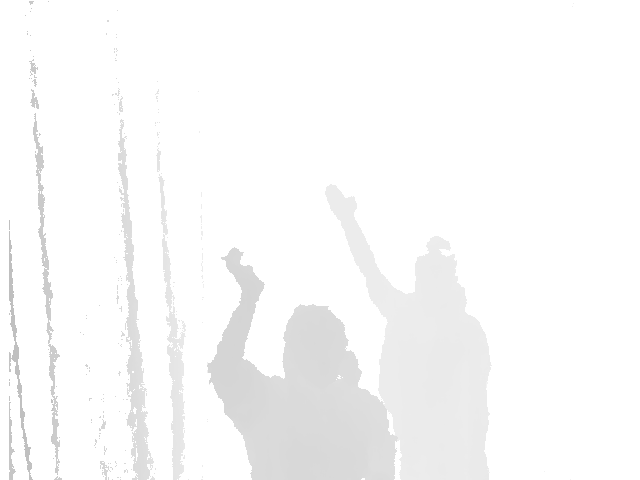hand: (224, 248, 266, 300), (325, 184, 358, 221)
head: (282, 303, 346, 389), (414, 235, 456, 295)
person: (323, 184, 494, 480), (206, 248, 401, 480)
